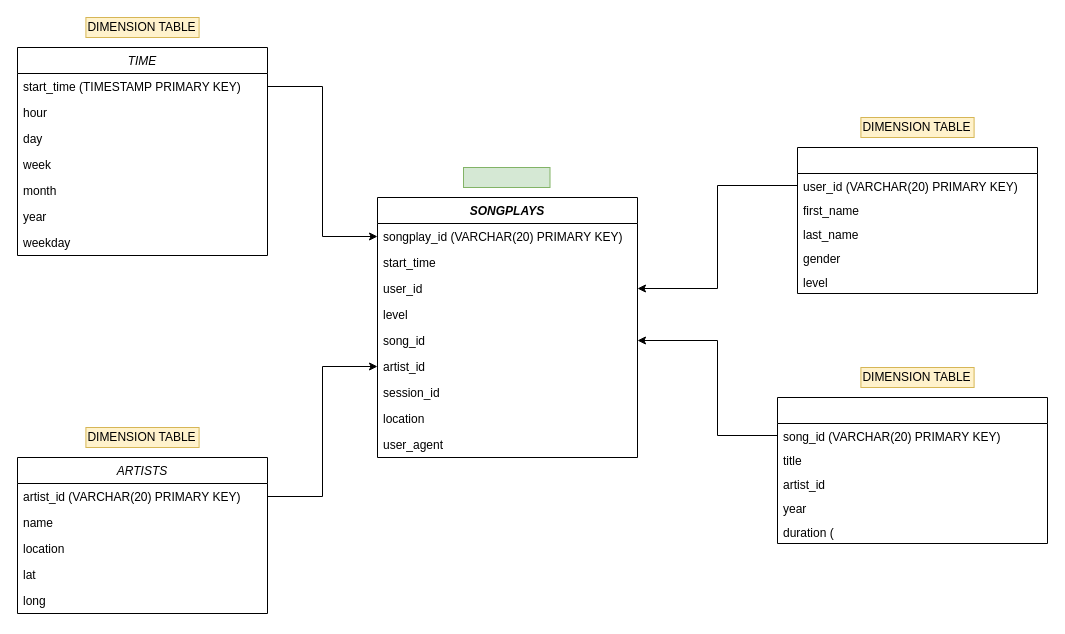
Image size: 1065x634. Some labels were removed from this diagram. Each missing label, with the box of its shape:
FACT TABLE: (462, 166, 550, 188)
SONGS: (776, 396, 1048, 544)
USERS: (796, 146, 1038, 294)
